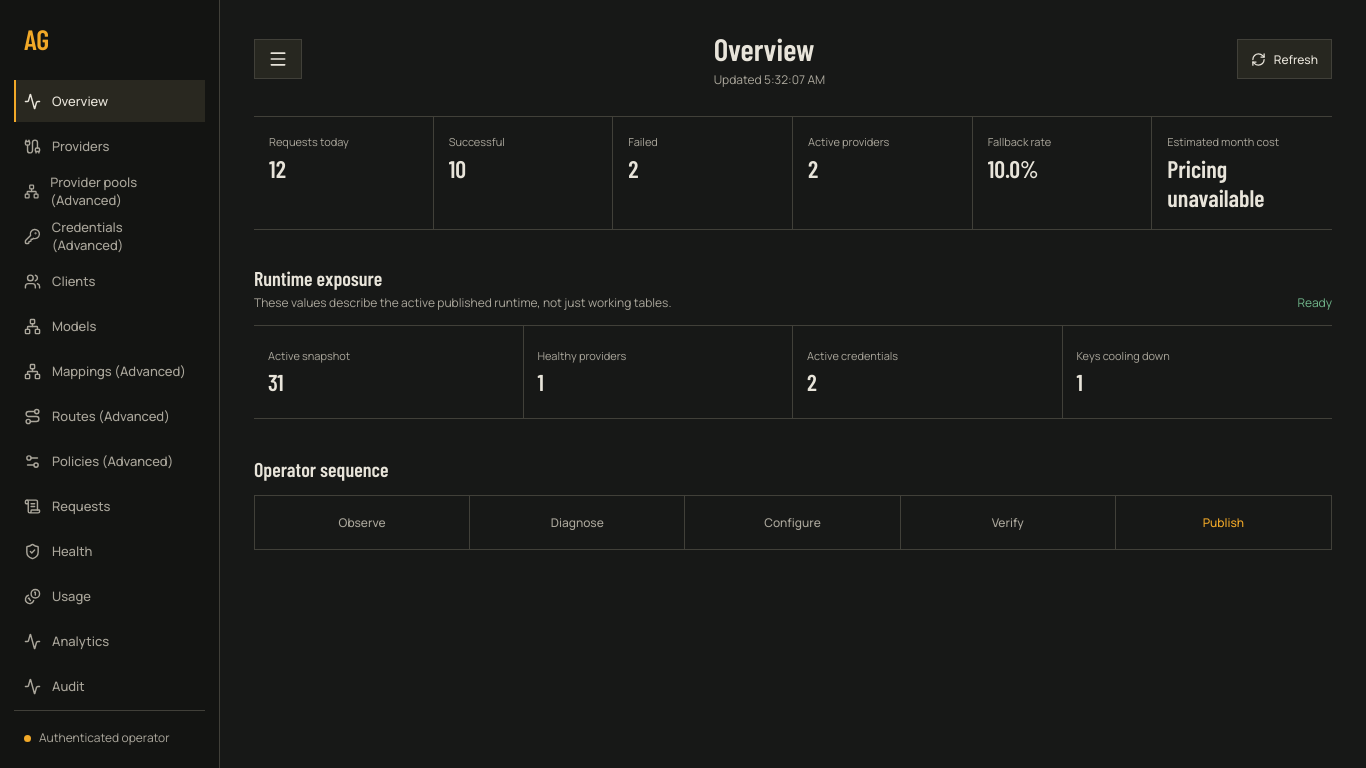
Test: control plane › opens a human-readable request trace with fallback and token usage
Click the button "Requests": (110, 506) [14,485,205,527]
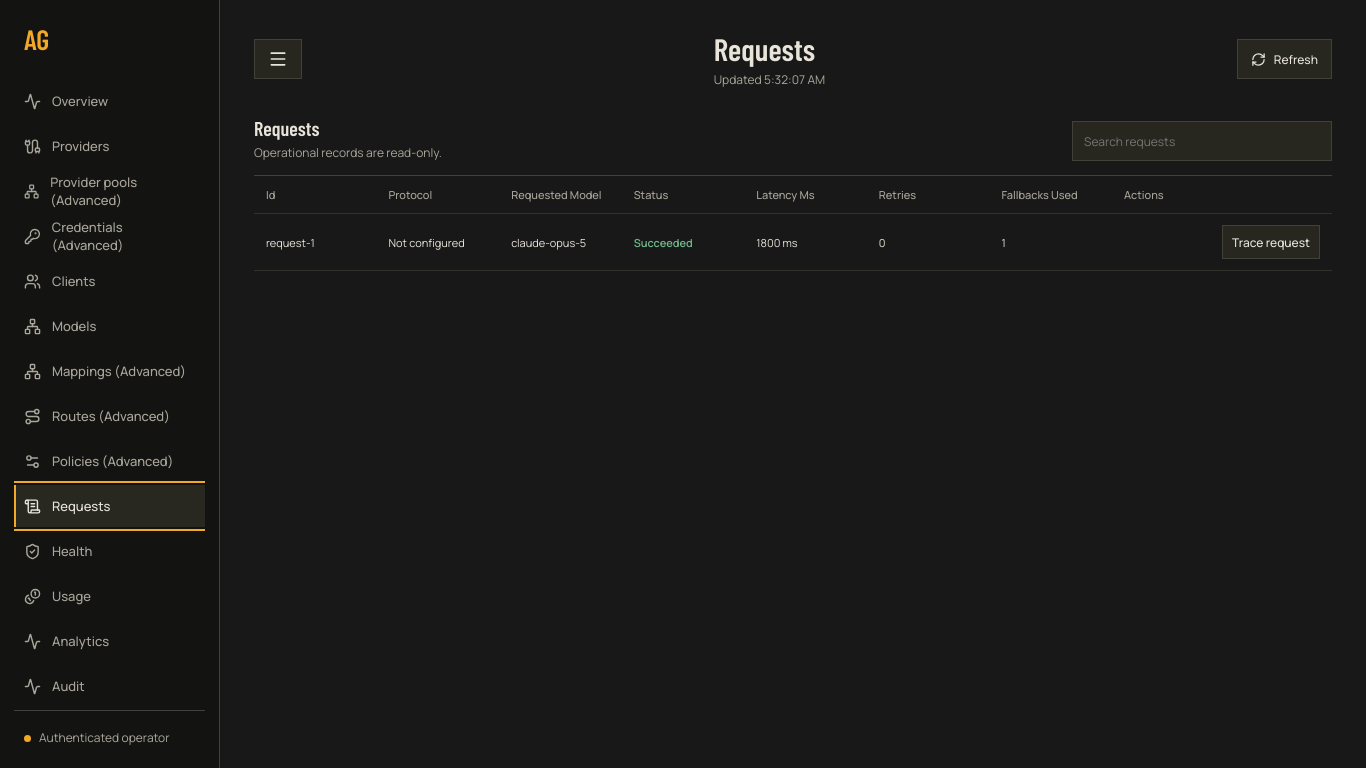
Click the button "Trace request": (1271, 242) [1222,225,1320,259]
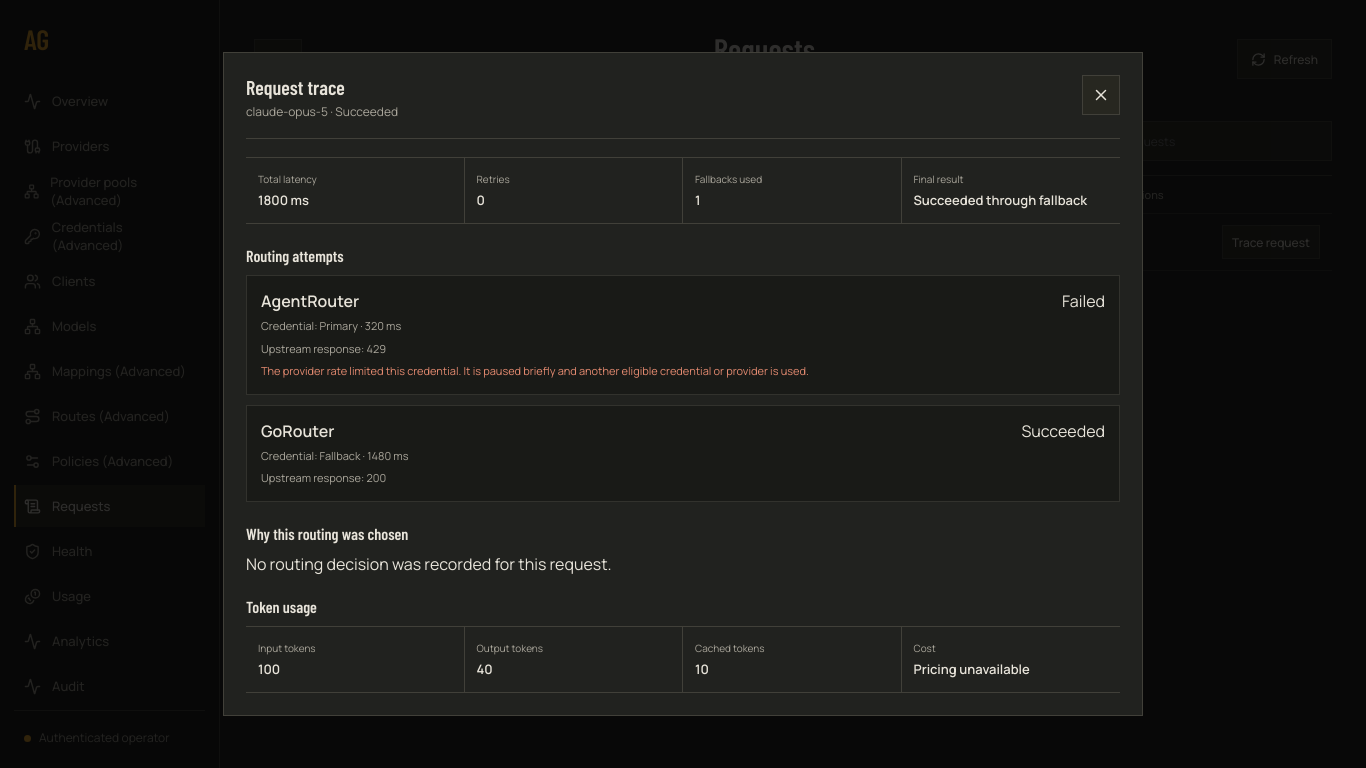
Now the dialog "Request trace" is shown, box [223,52,1143,716]
Now the text "Succeeded through fallback" is shown, box [914,191,1108,209]
Now the text "AgentRouter" is shown, box [261,290,359,312]
